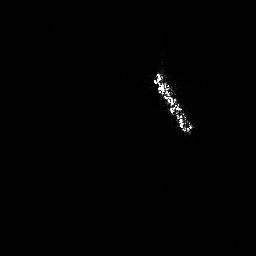ship: (151, 68, 197, 138)
